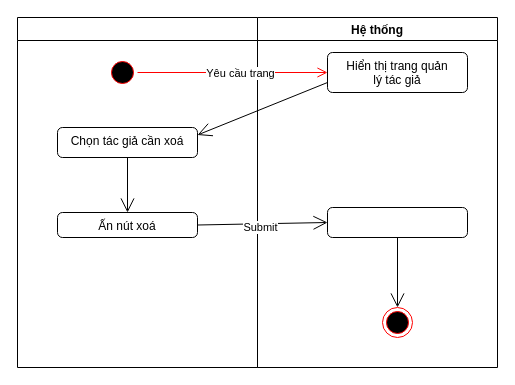
This 515x385 diagram has some shape labels left out. Each missing label, with the box of its shape:
Admin: (16, 16, 258, 368)
Cập nhật cơ sở dữ liệu: (326, 206, 468, 238)
